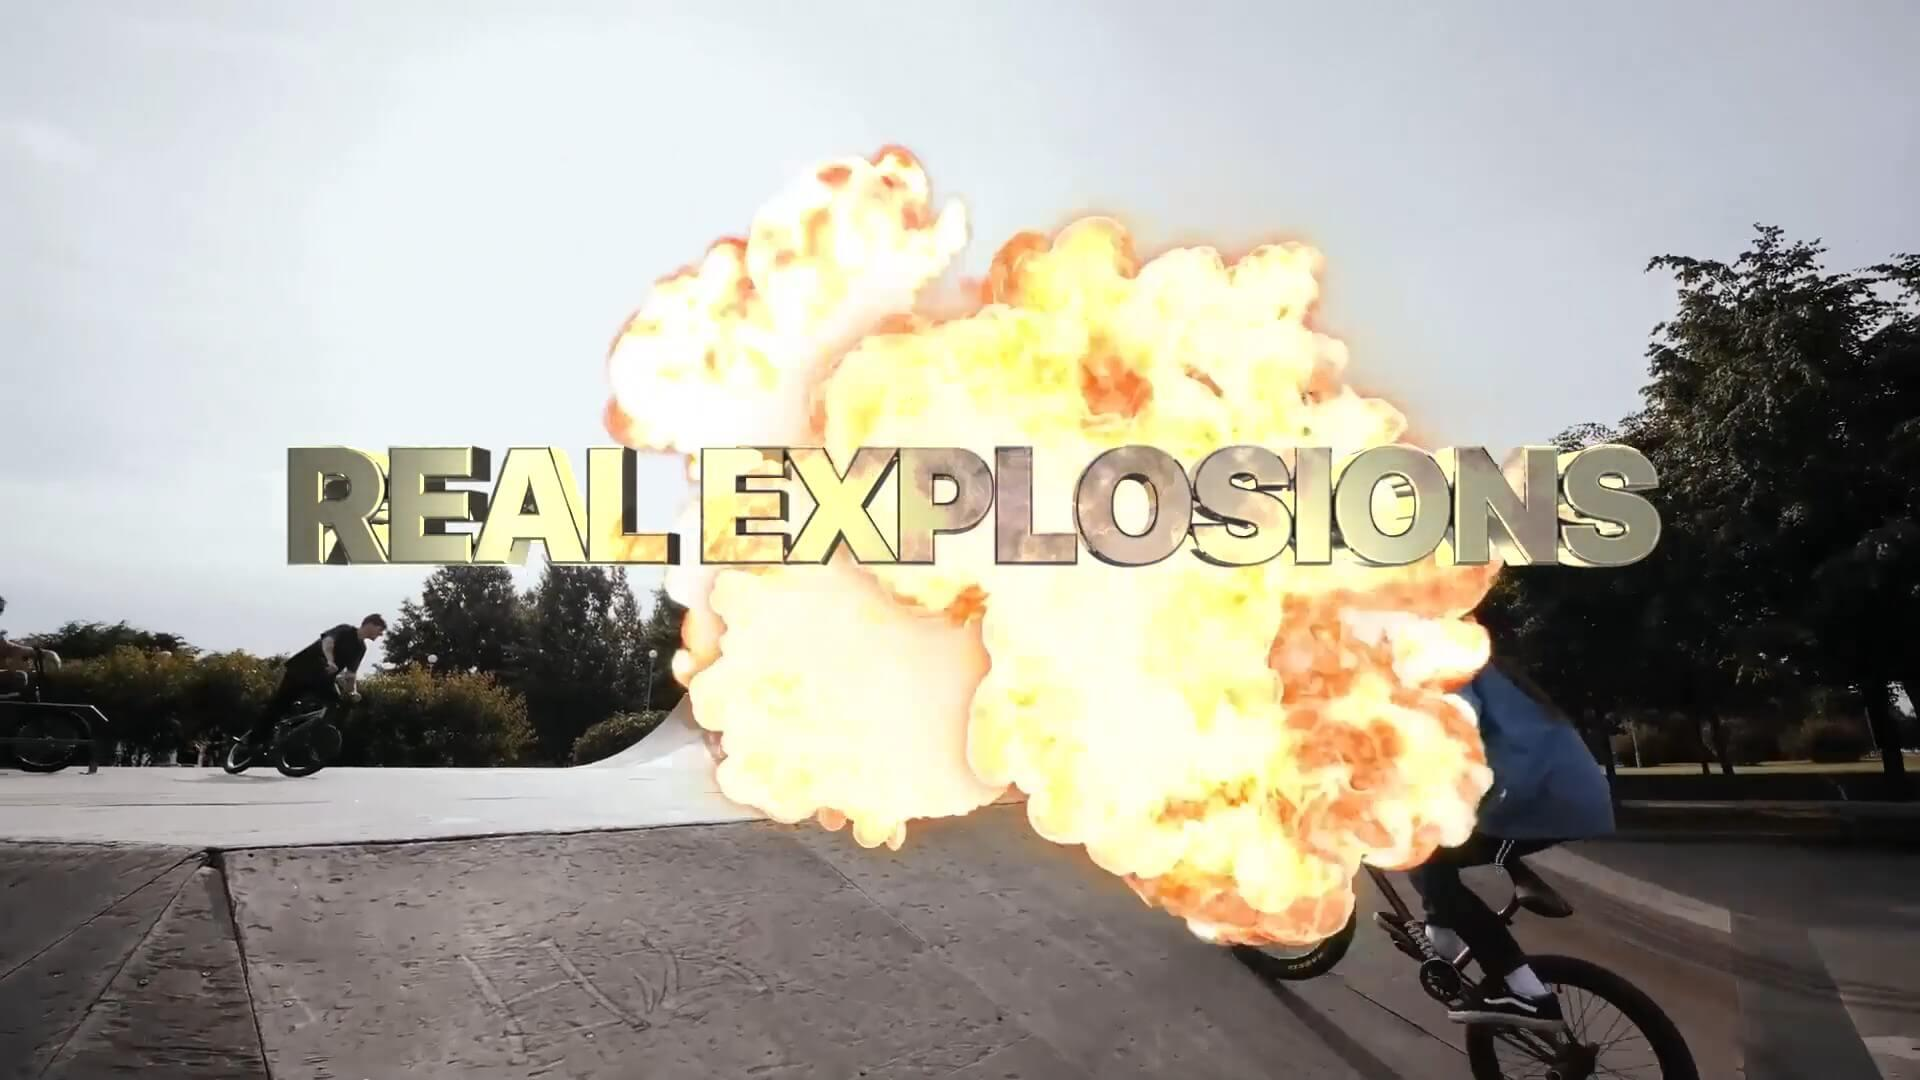fire: (599, 131, 1532, 949)
